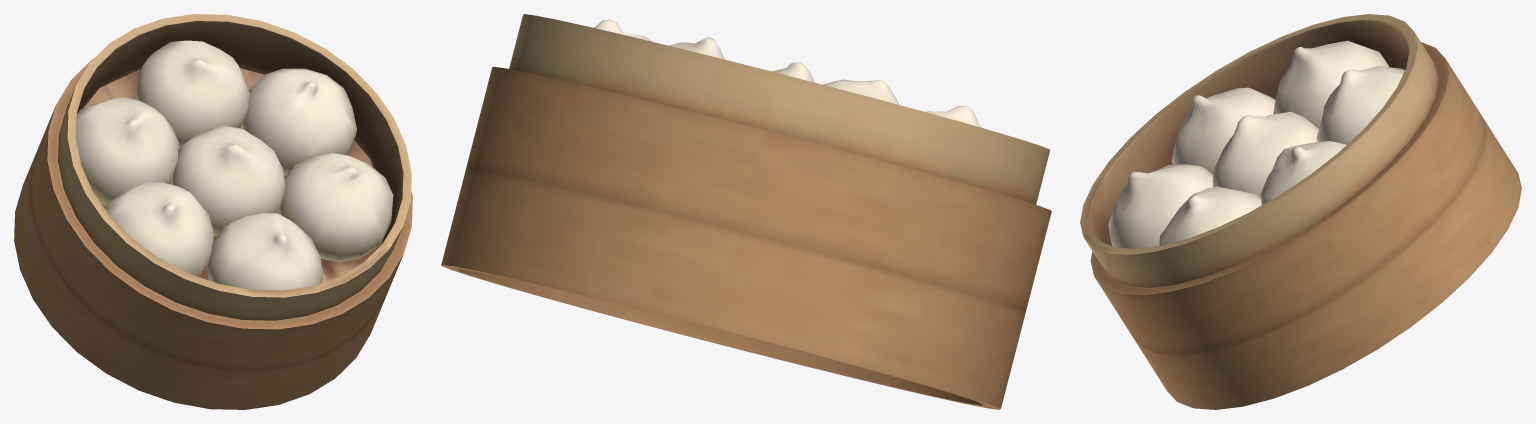
File: BFXiaoLongBao.obj
The picture shows the model from 3 angles, left to right: view 1: azimuth 30°, elevation 25°; view 2: azimuth 150°, elevation 25°; view 3: azimuth 270°, elevation 25°; orthographic projection. The views are drawn at different scales.
Parts seen in each view (by area): view 1: xiaoLongBao; view 2: xiaoLongBao; view 3: xiaoLongBao.
Part boxes in pixels (x1=…): xiaoLongBao: x1=14, y1=14, x2=412, y2=409; xiaoLongBao: x1=441, y1=14, x2=1051, y2=409; xiaoLongBao: x1=1080, y1=14, x2=1521, y2=409.
Size of the model in its own units: 2.11 by 1.86 by 2.26.
